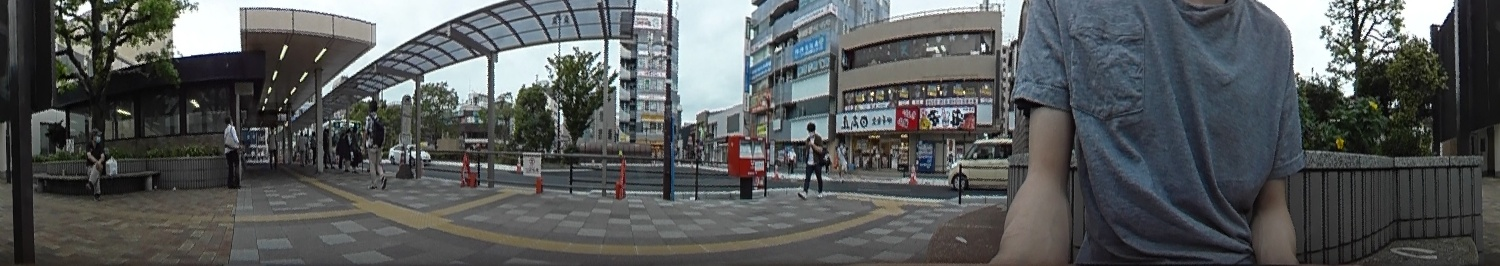difficult_person: (340, 126, 352, 171), (353, 127, 364, 173), (834, 140, 847, 176), (294, 130, 306, 168), (266, 127, 277, 163), (322, 130, 332, 165)
person: (803, 122, 827, 196), (84, 128, 108, 201), (221, 115, 243, 189), (369, 99, 386, 190)
